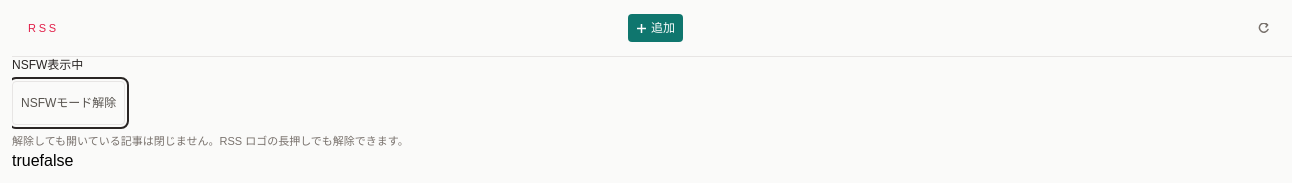
Test: 設定へ移動した通常モード解除と SidebarHeader › 保存済みモードを即時解除し、リロード相当の再描画でも無効のままにする
Click the button "NSFWモード解除". click: click(69, 103)
box: left=12, top=81, right=125, bottom=125
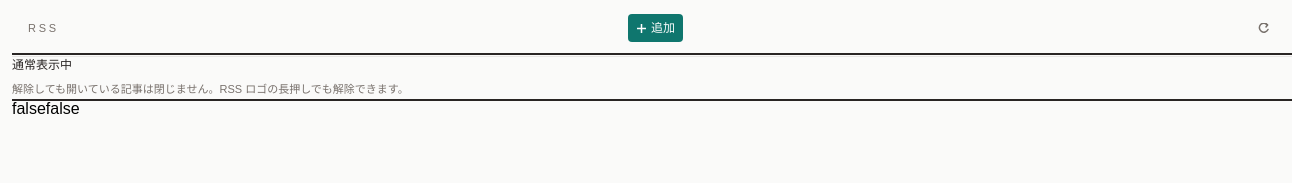
Expected: the text named "有効化演出" reads "false", left=46, top=100, right=80, bottom=117
Now the text named "モード" reads "false", box left=12, top=100, right=46, bottom=117
